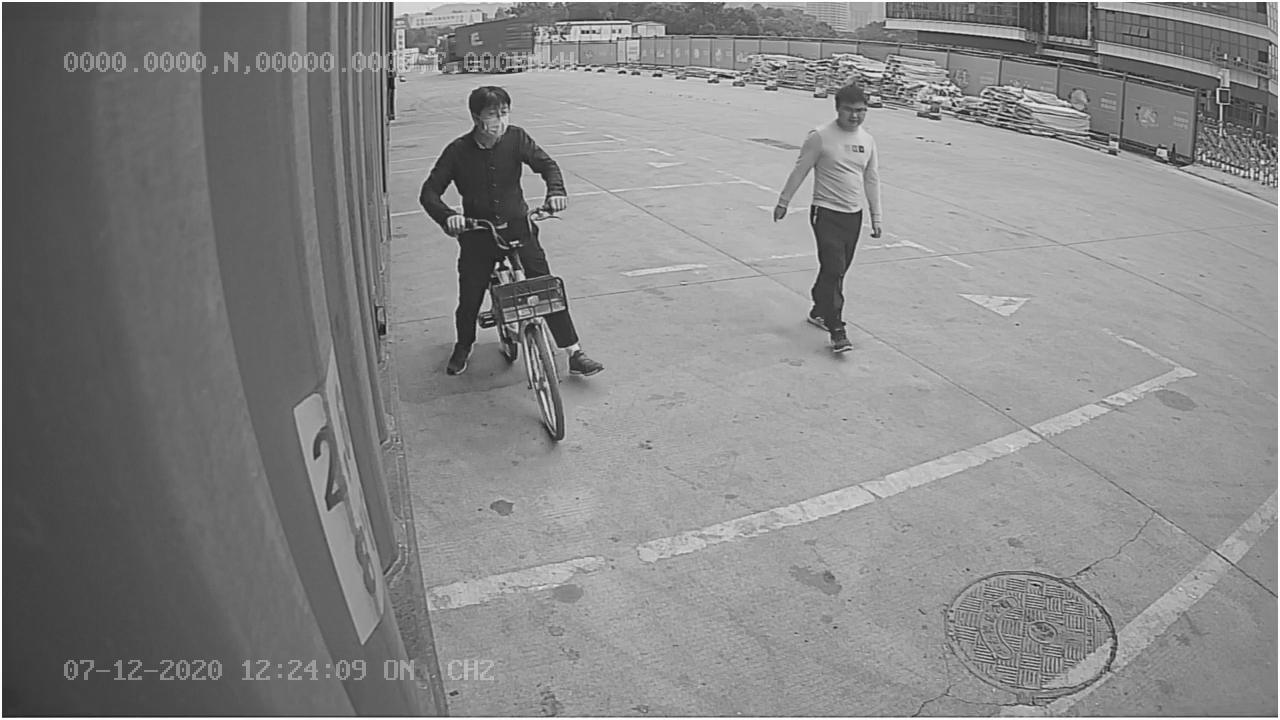person: (768, 82, 885, 358)
